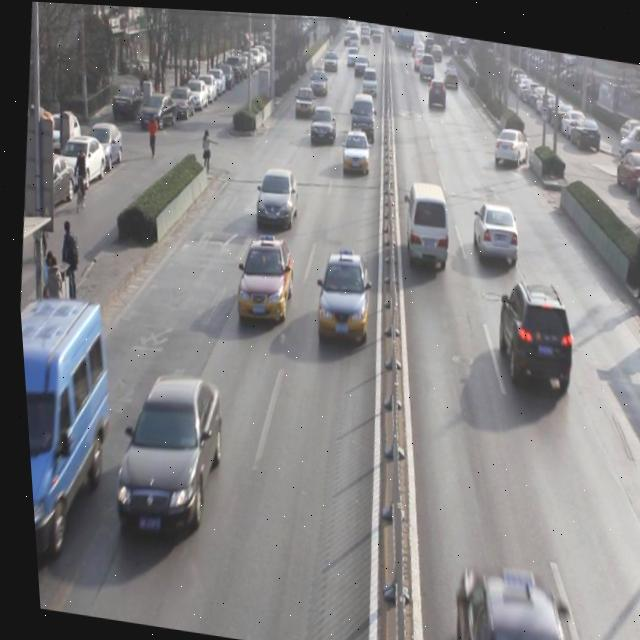car: (99, 374, 226, 542), (441, 554, 575, 640), (486, 272, 577, 395), (230, 227, 294, 321), (313, 248, 371, 341), (249, 162, 299, 231), (466, 194, 519, 259), (491, 115, 531, 165), (335, 126, 372, 177), (306, 103, 337, 142), (290, 77, 319, 117), (423, 70, 450, 108), (305, 60, 330, 94)
truck: (16, 301, 117, 552), (396, 171, 455, 268), (345, 87, 378, 139), (357, 60, 379, 95)
